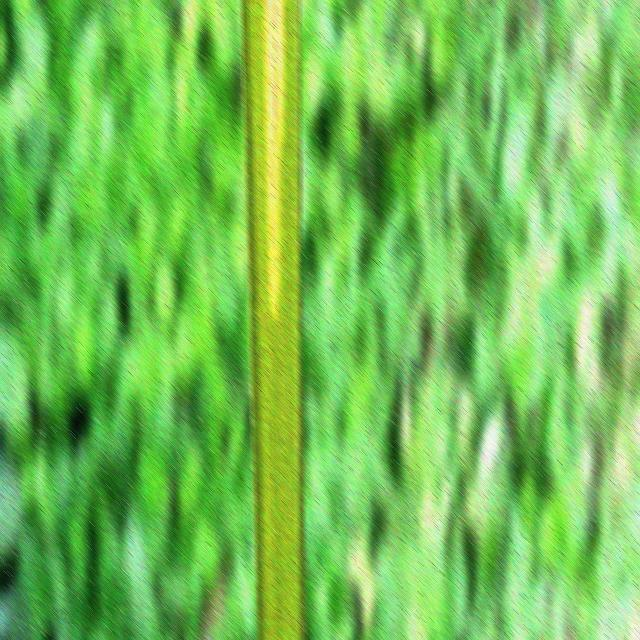BLS: (264, 0, 284, 316)
